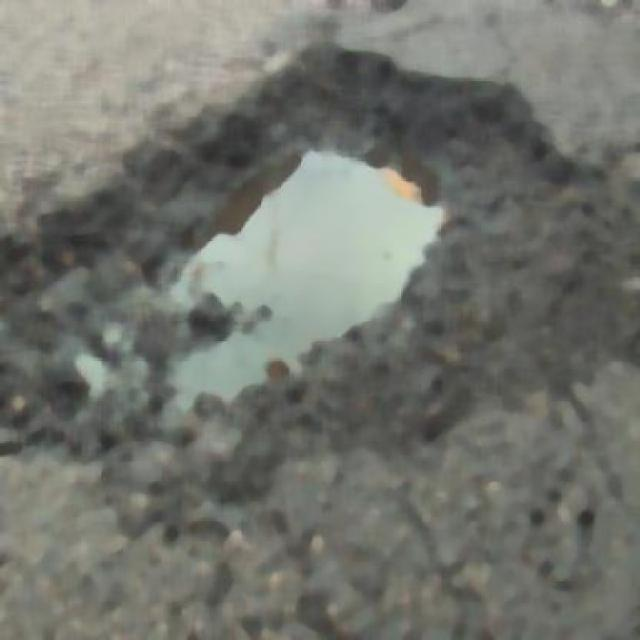Pothole: (149, 142, 443, 382)
